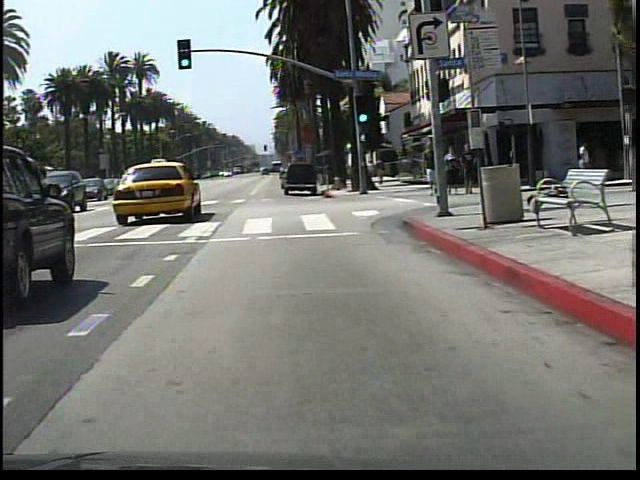person: (420, 141, 439, 200), (573, 137, 590, 185)
